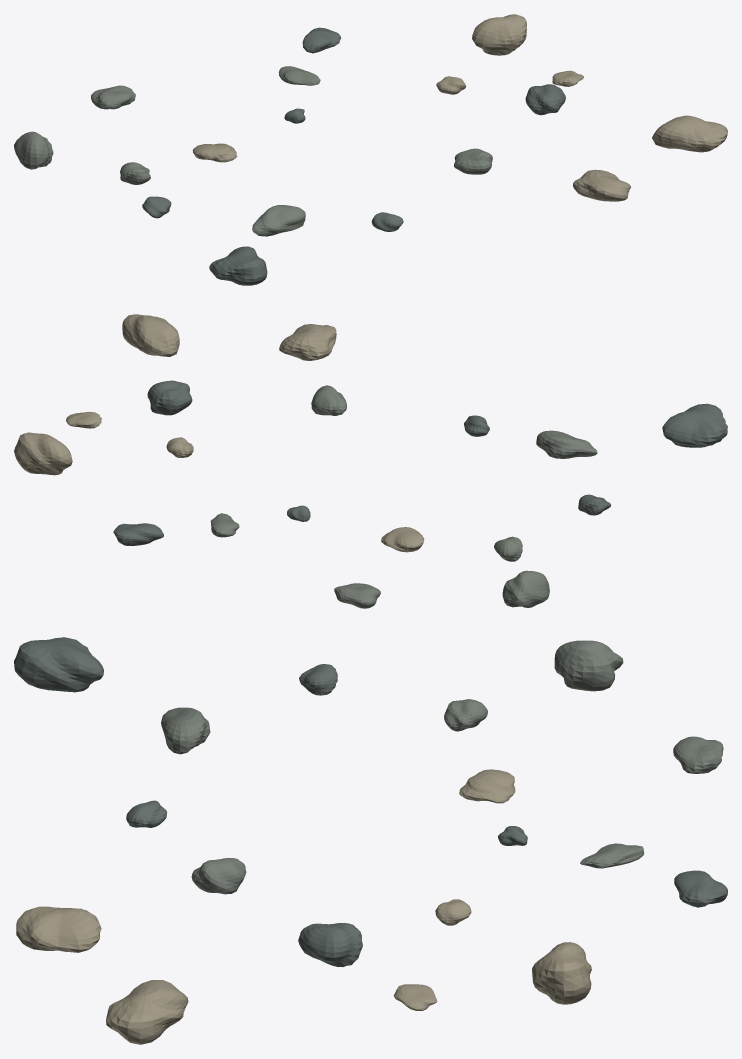
File: rocks.obj
The picture shows the model from 3 angles, top to bottom: view 1: azimuth 30°, elevation 25°; view 2: azimuth 150°, elevation 25°; view 3: azimuth 270°, elevation 25°; orthographic projection. The views are drawn at different scales.
Visible parts, largest first — view 1: scene_mesh; view 2: scene_mesh; view 3: scene_mesh.
Part boxes in pixels (bbox=[...]): scene_mesh: bbox=[14, 14, 727, 285]; scene_mesh: bbox=[14, 314, 727, 608]; scene_mesh: bbox=[14, 637, 727, 1044].
Size of the model in its own units: 74.13 by 5.79 by 58.19.
